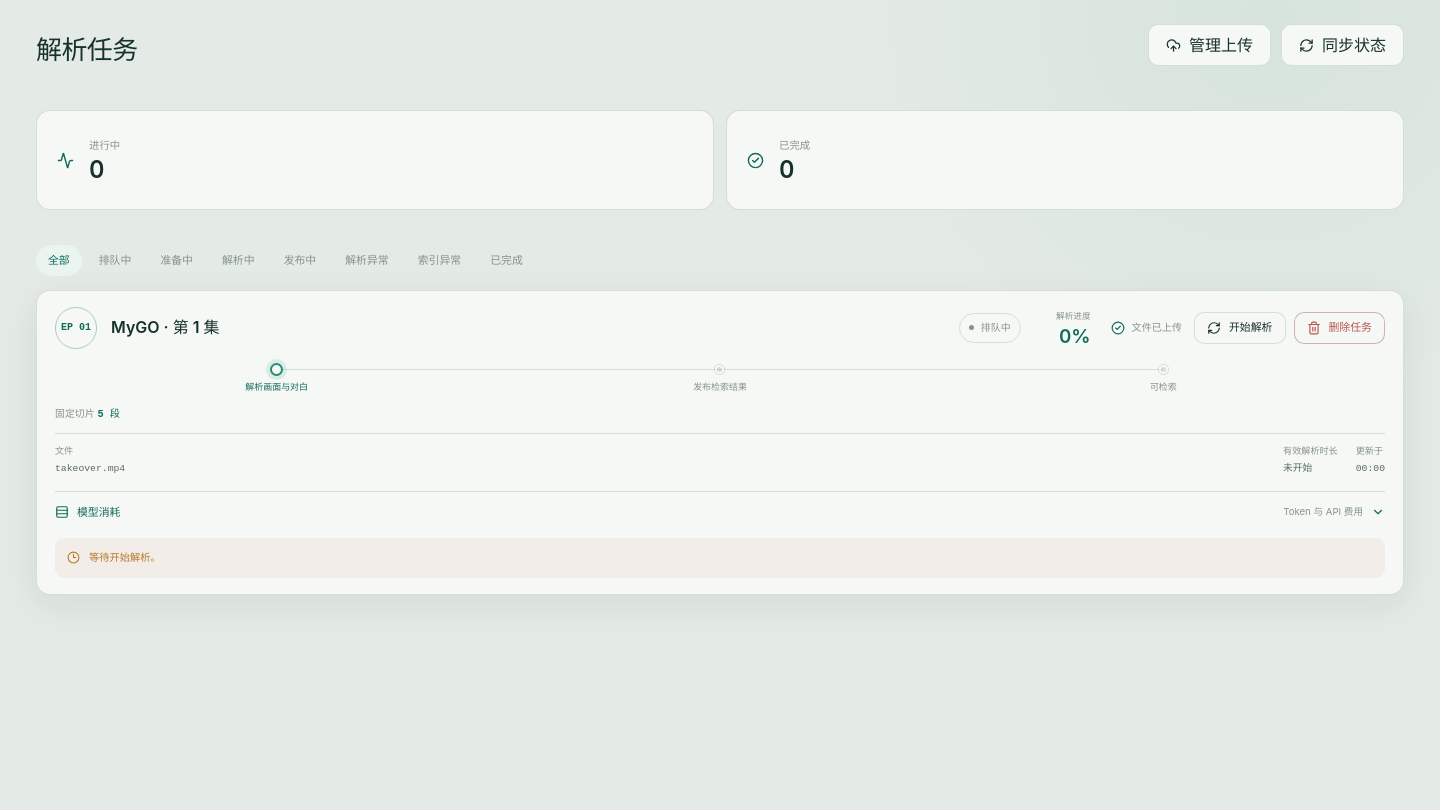
Test: V2 task actions › offers starting an unaccepted pending task without exposing takeover internals
Click the button "开始解析": x=1240, y=328 x1=1194 y1=312 x2=1286 y2=344
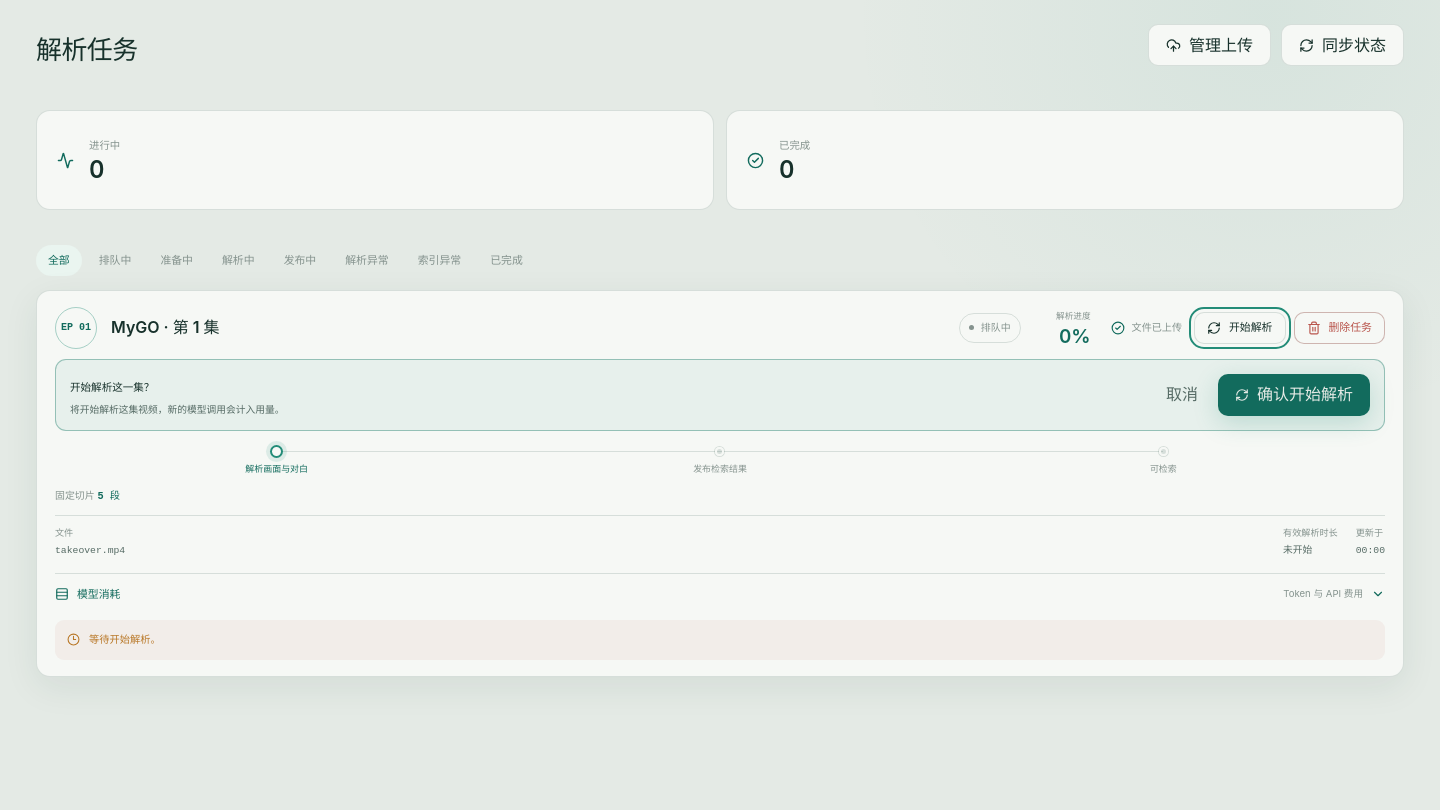
Expected: the text "开始解析这一集？" is shown, x1=70 y1=381 x2=154 y2=394
Expected: the text "将开始解析这集视频，新的模型调用会计入用量。" is shown, x1=70 y1=402 x2=284 y2=417
